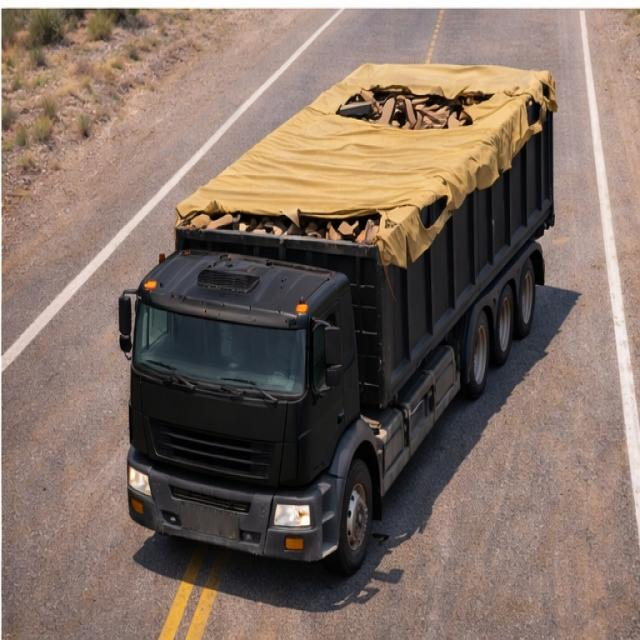Box: (168, 48, 559, 246)
Truck: (72, 23, 570, 567)
